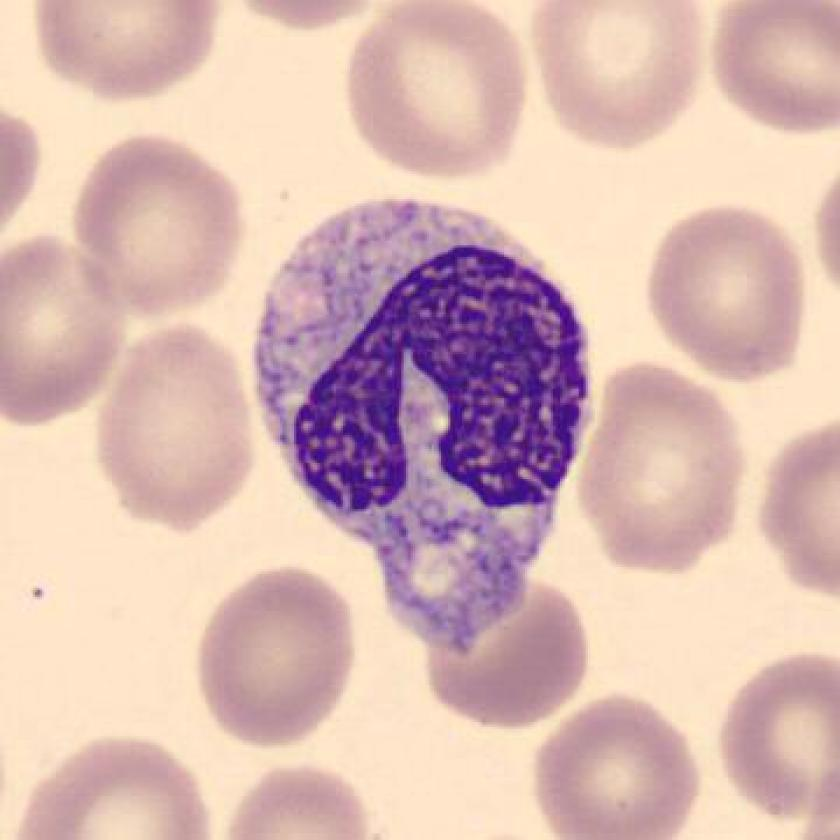monocyte: (237, 173, 615, 682)
